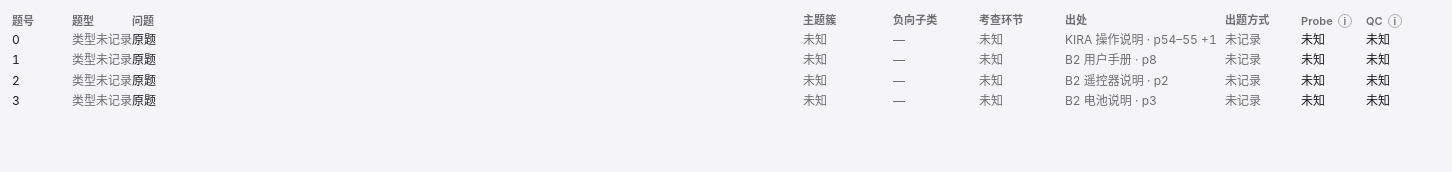
Test: keeps source pages visible with four short document names and exposes every source on hover
Expected: the cell "KIRA 操作说明 · p54–55 +1" is shown, x1=1065 y1=30 x2=1225 y2=50
Step 1. Hover over the element with class "ui-hover-trigger" showing "KIRA 操作说明 · p54–55 +1" → coordinates (1141, 40), box x1=1065 y1=31 x2=1217 y2=49
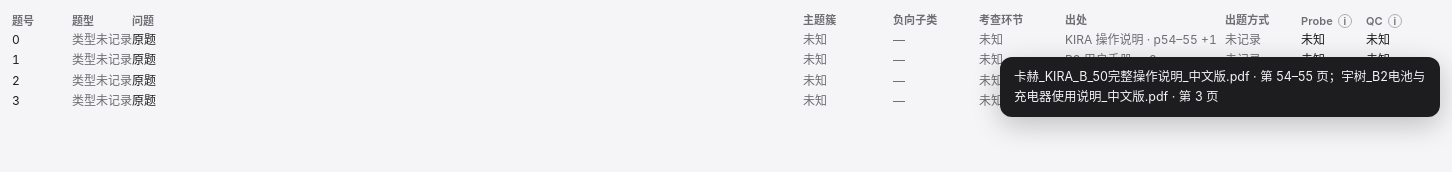
Expected: the button "1 类型未记录 原题 未知 — 未知 B2 用户手册 · p8 未记录 未知 未知" is shown, x1=12 y1=50 x2=1451 y2=71
Now the tooltip reads "卡赫_KIRA_B_50完整操作说明_中文版.pdf · 第 54–55 页；宇树_B2电池与充电器使用说明_中文版.pdf · 第 3 页", box x1=1014 y1=69 x2=1425 y2=104
